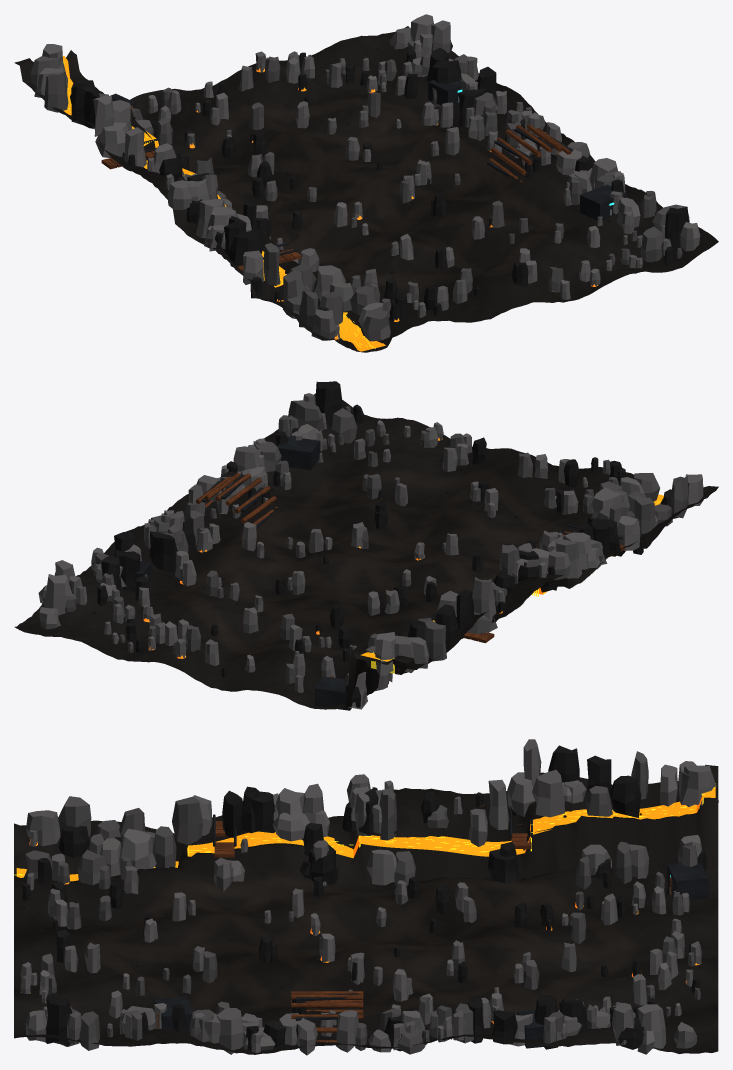
File: world_2.glb
3 views of the same model, one above another, from view 1: azimuth 30°, elevation 25°; view 2: azimuth 150°, elevation 25°; view 3: azimuth 270°, elevation 25° (orthographic). The views are drawn at different scales.
Parts seen in each view (by area): view 1: Terrain / sculpted relief.002, Cliffs / fractured strata.002, Flora / scattered miniatures.002, Ruins / abandoned machinery.002, Water / falls and currents.002; view 2: Terrain / sculpted relief.002, Cliffs / fractured strata.002, Flora / scattered miniatures.002, Ruins / abandoned machinery.002; view 3: Terrain / sculpted relief.002, Cliffs / fractured strata.002, Flora / scattered miniatures.002, Ruins / abandoned machinery.002, Water / falls and currents.002.
Boxes of the visible parts, bbox=[...] form: Terrain / sculpted relief.002: bbox=[14, 26, 718, 352]; Cliffs / fractured strata.002: bbox=[30, 14, 700, 341]; Flora / scattered miniatures.002: bbox=[122, 33, 683, 340]; Ruins / abandoned machinery.002: bbox=[101, 80, 626, 270]; Water / falls and currents.002: bbox=[62, 56, 385, 351]; Terrain / sculpted relief.002: bbox=[14, 393, 718, 709]; Cliffs / fractured strata.002: bbox=[38, 381, 703, 709]; Flora / scattered miniatures.002: bbox=[70, 393, 657, 692]; Ruins / abandoned machinery.002: bbox=[133, 436, 625, 710]; Terrain / sculpted relief.002: bbox=[14, 764, 718, 1054]; Cliffs / fractured strata.002: bbox=[21, 739, 718, 1055]; Flora / scattered miniatures.002: bbox=[20, 780, 701, 1052]; Ruins / abandoned machinery.002: bbox=[154, 809, 708, 1048]; Water / falls and currents.002: bbox=[14, 783, 715, 881].
Size of the model in its own units: 9.56 by 2.32 by 12.71.
Materials: 12 (5 with a texture image).
